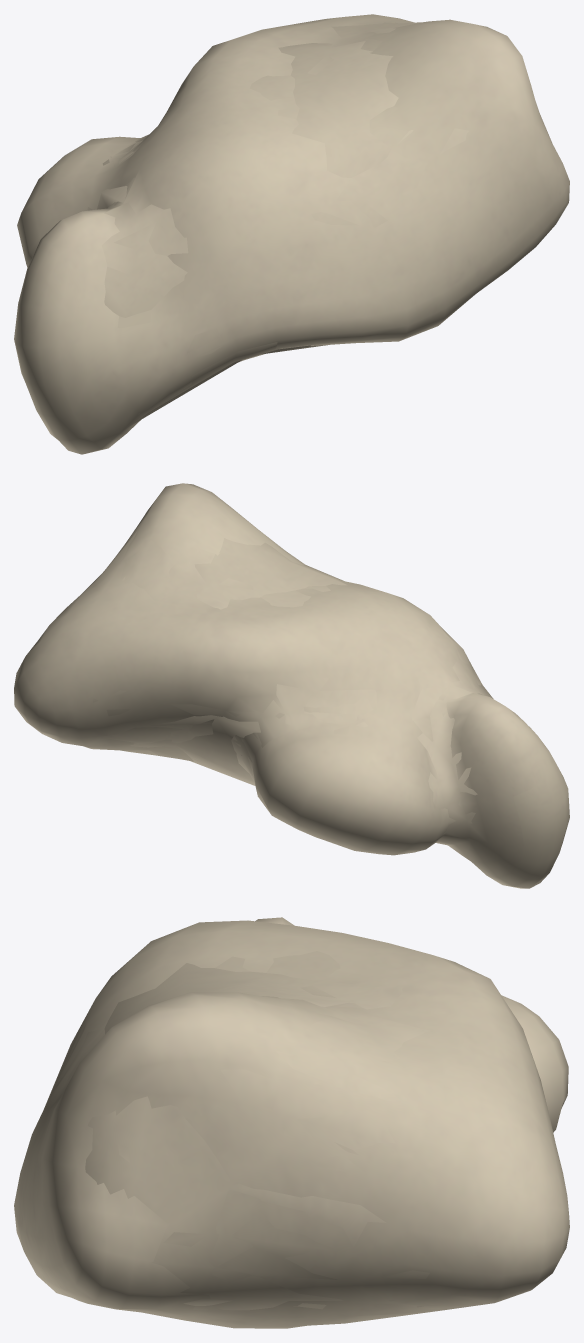
File: L carpi intermedium radiale.fbx
3 renders of one model, top to bottom at view 1: azimuth 30°, elevation 25°; view 2: azimuth 150°, elevation 25°; view 3: azimuth 270°, elevation 25°, orthographic. The views are drawn at different scales.
Visible parts, largest first — view 1: L carpi intermedium radiale high, L carpi intermedium radiale low, L carpi intermedium radiale; view 2: L carpi intermedium radiale high, L carpi intermedium radiale, L carpi intermedium radiale low; view 3: L carpi intermedium radiale high, L carpi intermedium radiale, L carpi intermedium radiale low.
Boxes of the visible parts, x1,y1,x2,y2 form: L carpi intermedium radiale high: (14, 14, 569, 454); L carpi intermedium radiale low: (97, 22, 413, 425); L carpi intermedium radiale: (87, 22, 551, 420); L carpi intermedium radiale high: (14, 483, 569, 888); L carpi intermedium radiale: (83, 540, 480, 854); L carpi intermedium radiale low: (92, 530, 493, 785); L carpi intermedium radiale high: (14, 917, 569, 1328); L carpi intermedium radiale: (39, 951, 429, 1320); L carpi intermedium radiale low: (104, 963, 423, 1312).
Size of the model in its own units: 4.28 by 2.74 by 2.87.
1 material, 1 textured.
